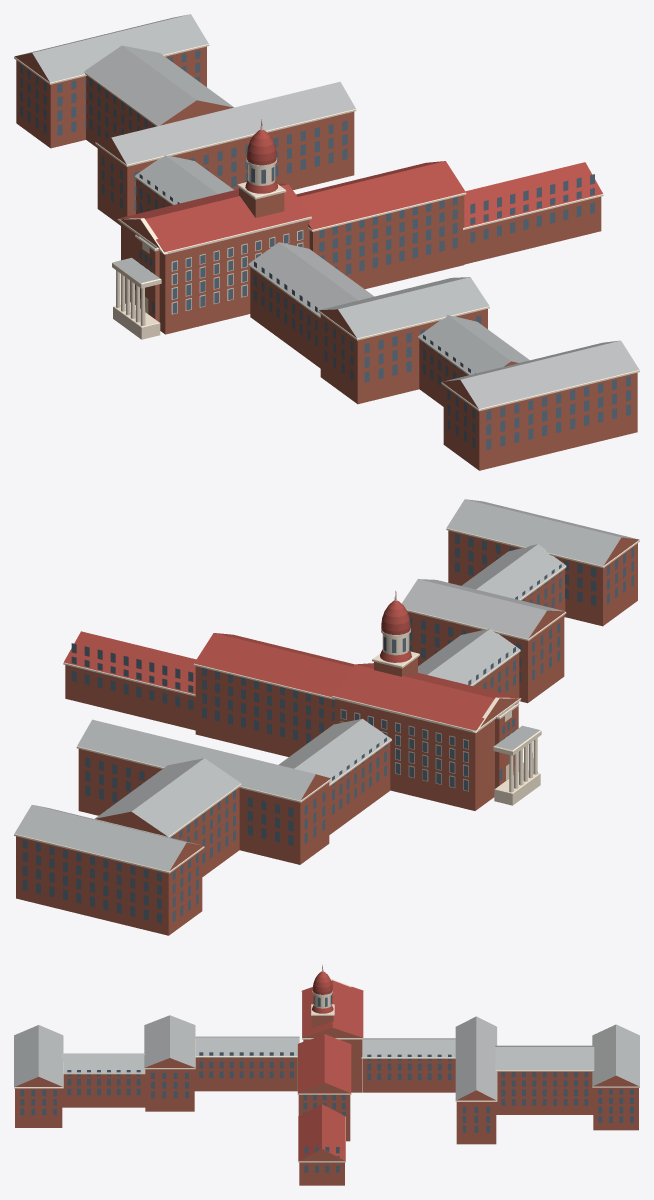
Rendered from cola-babcock-building.glb.
3 renders of one model, top to bottom at view 1: azimuth 30°, elevation 25°; view 2: azimuth 150°, elevation 25°; view 3: azimuth 270°, elevation 25°, orthographic. The views are drawn at different scales.
Parts seen in each view (by area): view 1: Babcock Building; view 2: Babcock Building; view 3: Babcock Building.
Part boxes in pixels (x1,y1,x2,y2): Babcock Building: (14,14,639,470); Babcock Building: (14,499,639,935); Babcock Building: (14,965,639,1185).
Bounding box in the file's own units: 115 × 42.7 × 206.
